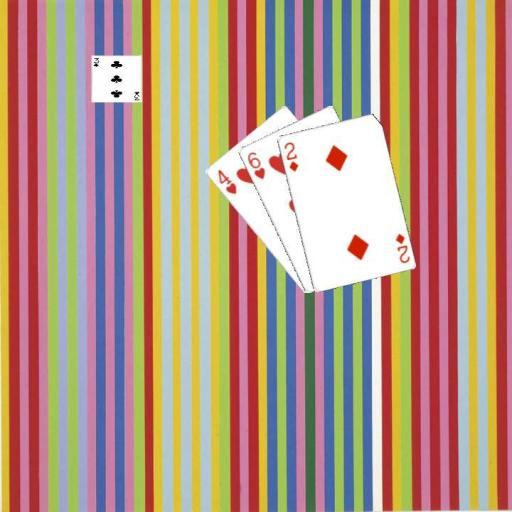2D: (392, 231, 411, 265), (281, 139, 299, 173)
4H: (214, 167, 238, 196)
6H: (244, 149, 267, 181)
